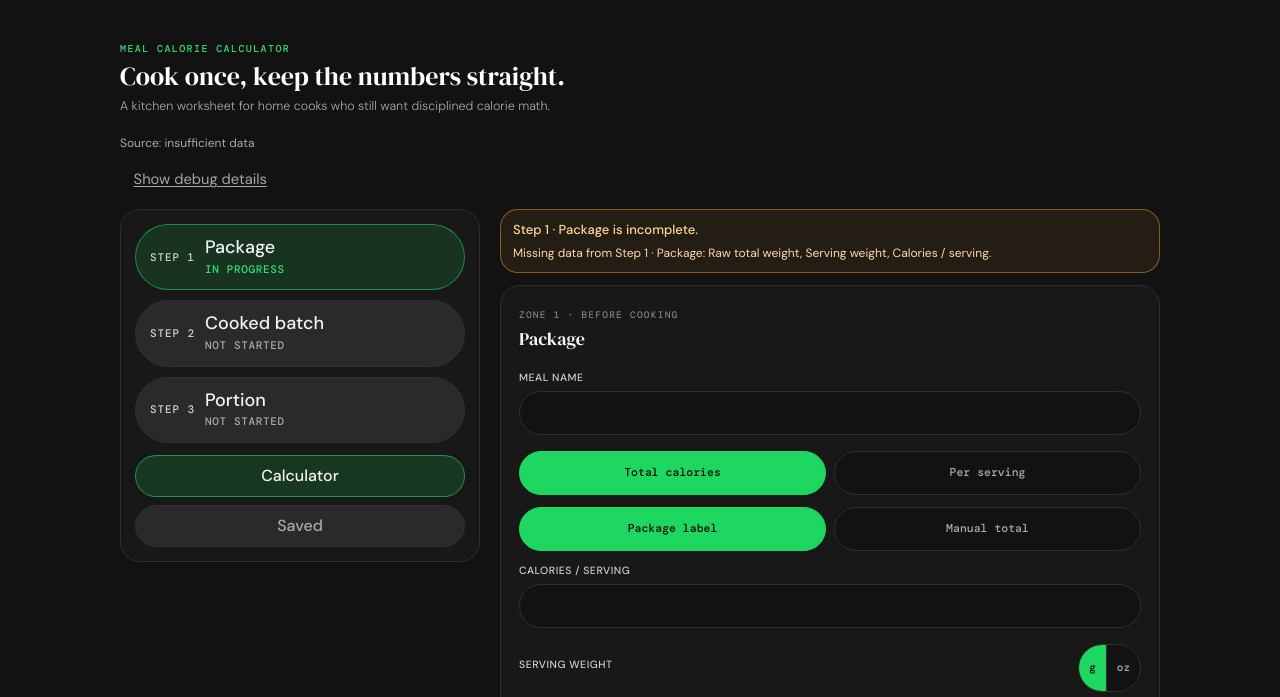
App zone layout migration › derives package-label totals for ravioli workflow
Step 1. Click the button "Step 1 Package In progress" → (172, 257), box [135,224,465,290]
(page scrolled)
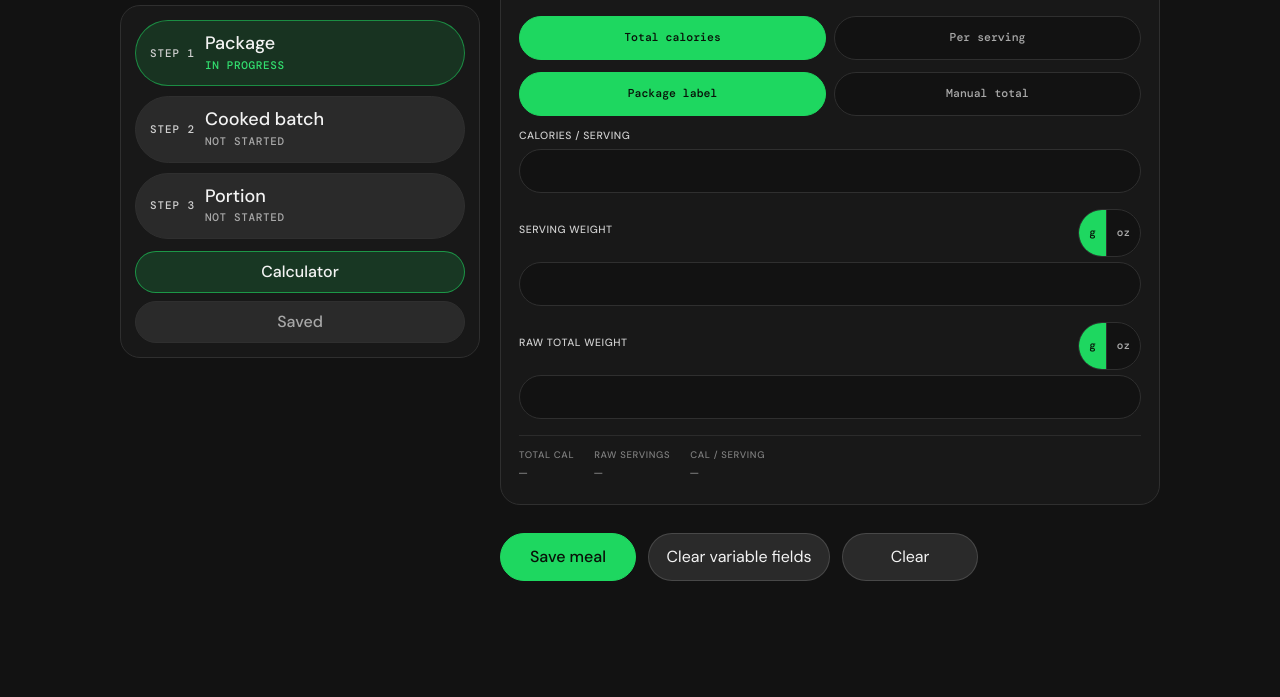
Step 2. Type "458" into the number field labelled "Raw total weight" → (830, 397), box [519,375,1141,419]
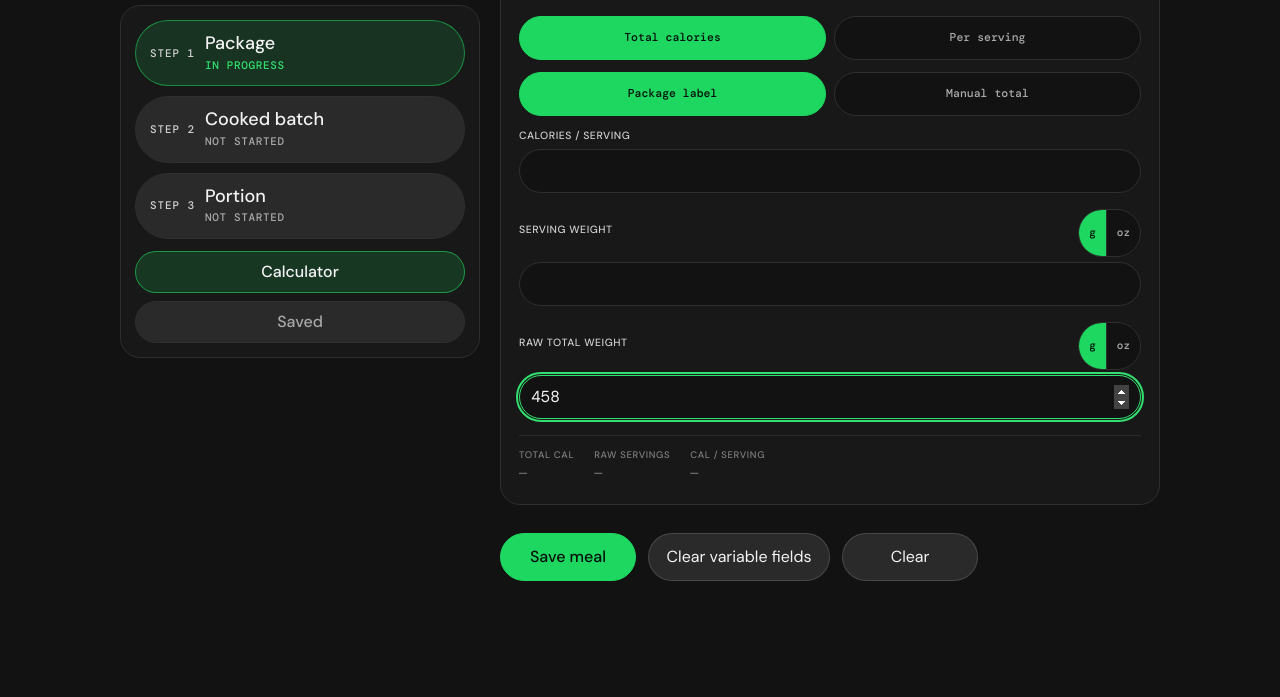
Step 3. Type "130" into the number field labelled "Serving weight" → (830, 284), box [519,262,1141,306]
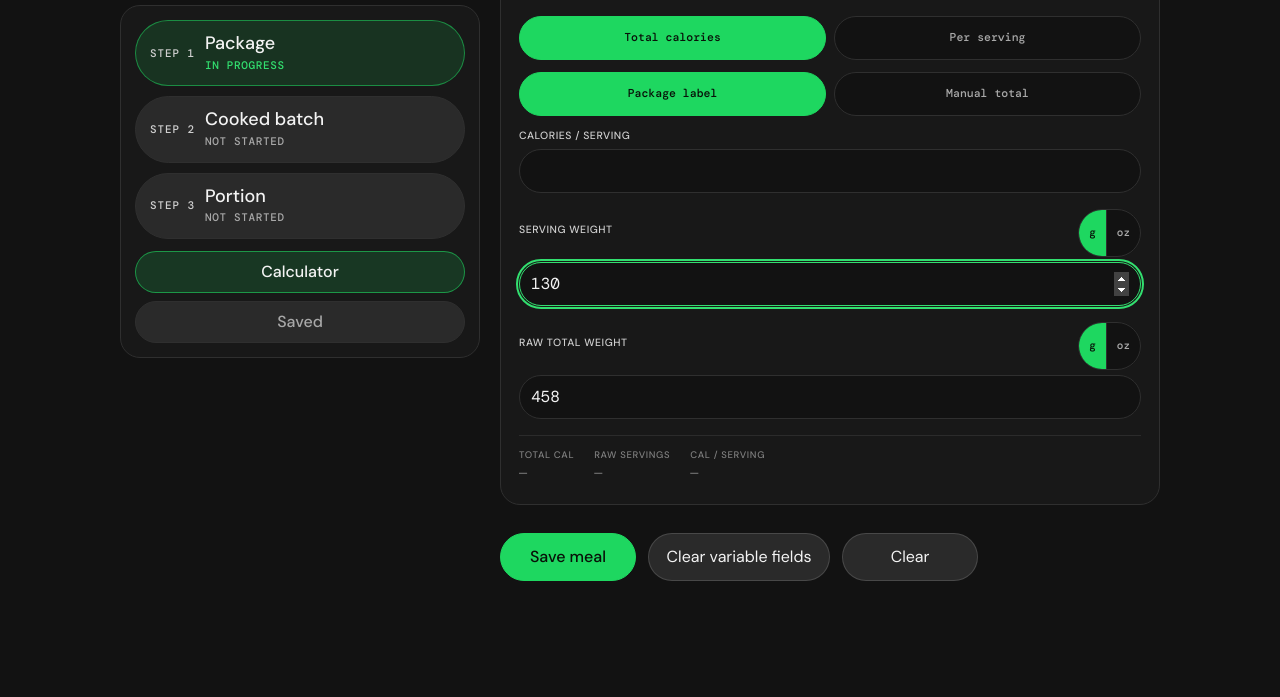
Step 4. Type "370" into the number field labelled "Calories / serving" → (830, 171), box [519,149,1141,193]
(page scrolled)
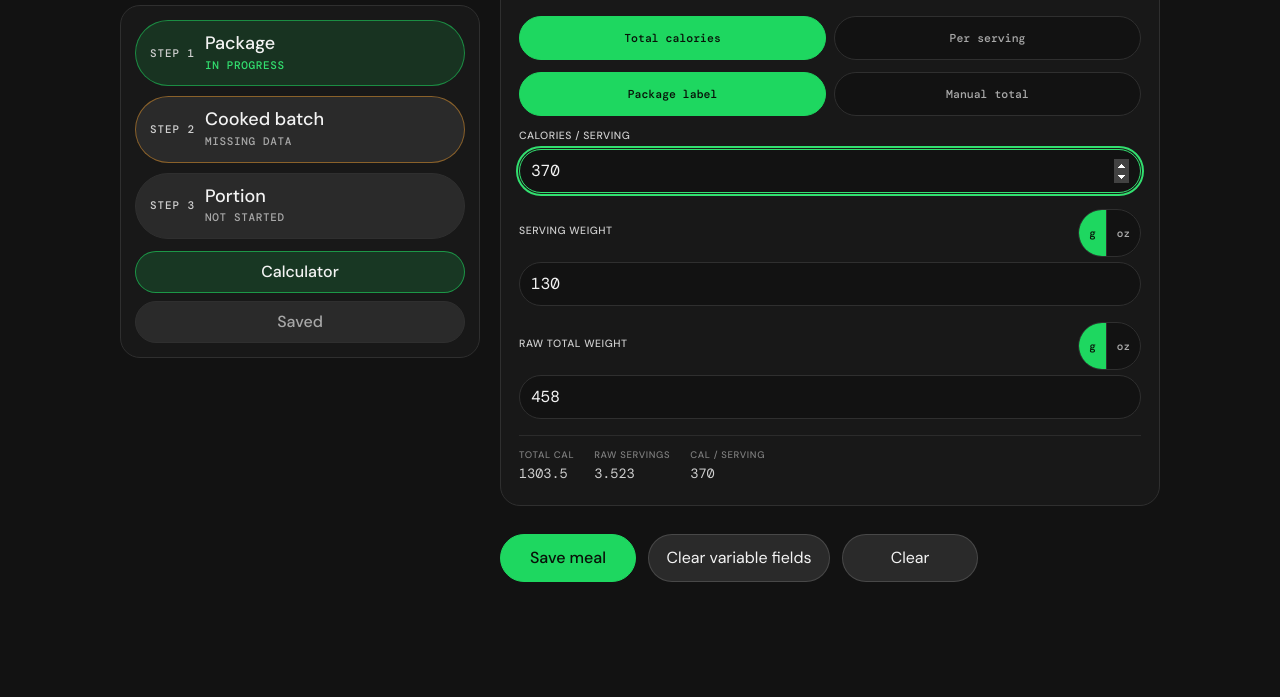
expect the text with test id "derived-total-cal" reads "1303.5": met, box [519,465,568,482]
expect the text with test id "derived-raw-servings" reads "3.523": met, box [594,465,635,482]
